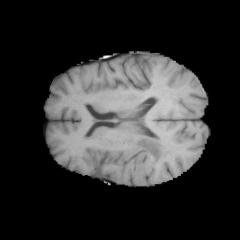glioma: (111, 135, 172, 184)
